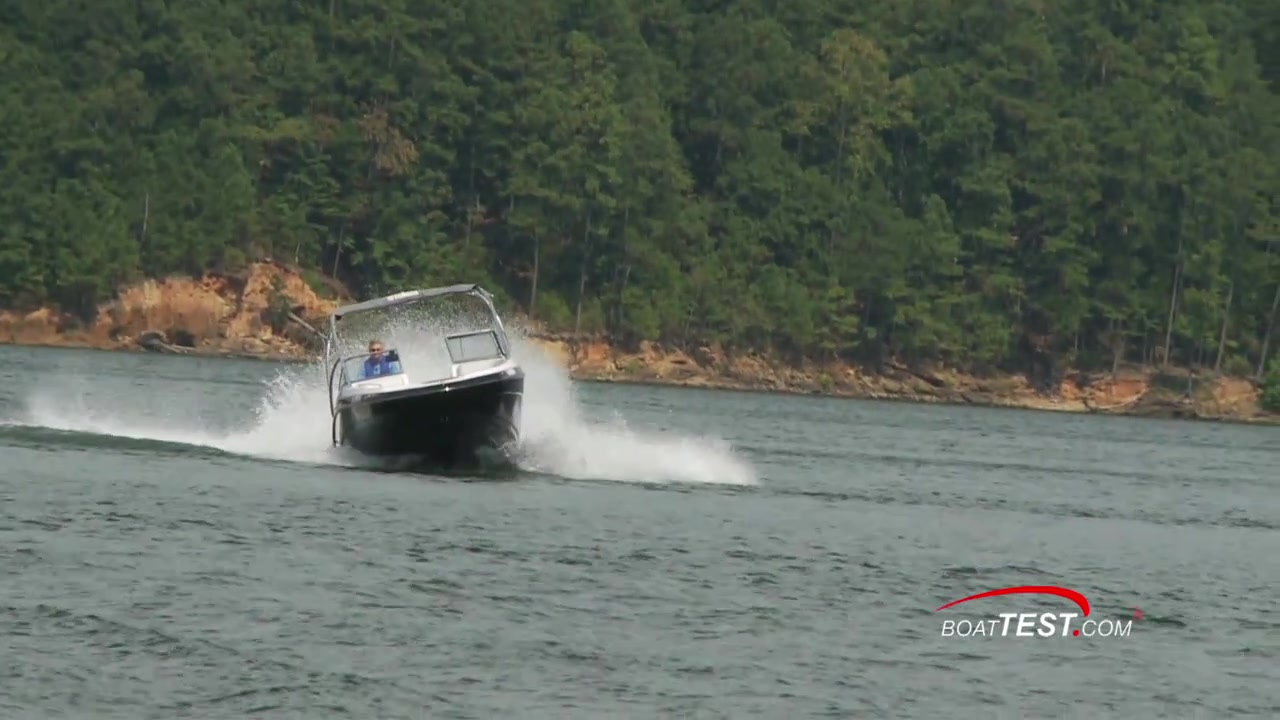boat: (322, 278, 543, 469)
